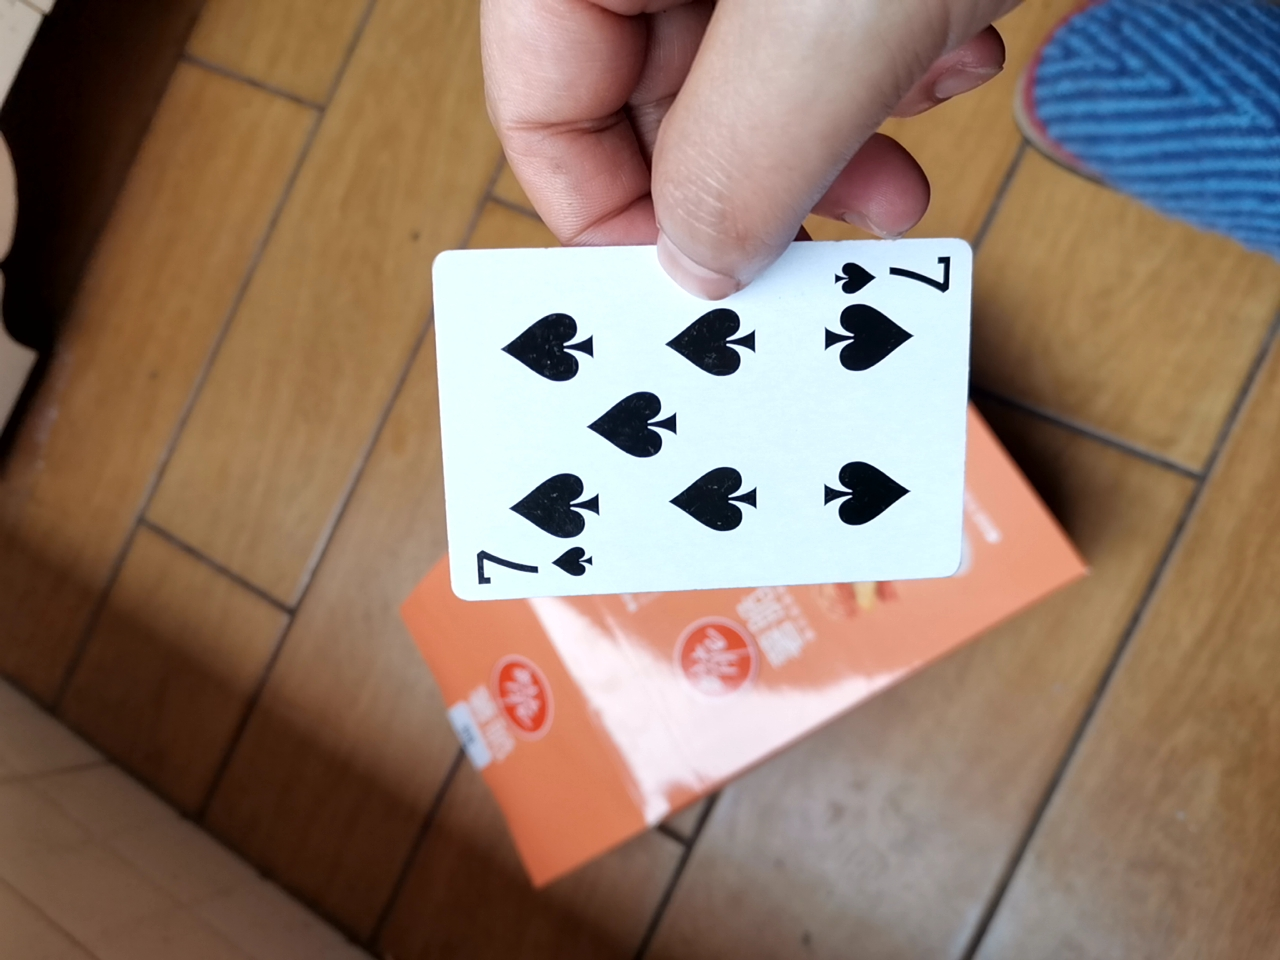ht 7: (418, 246, 979, 599)
